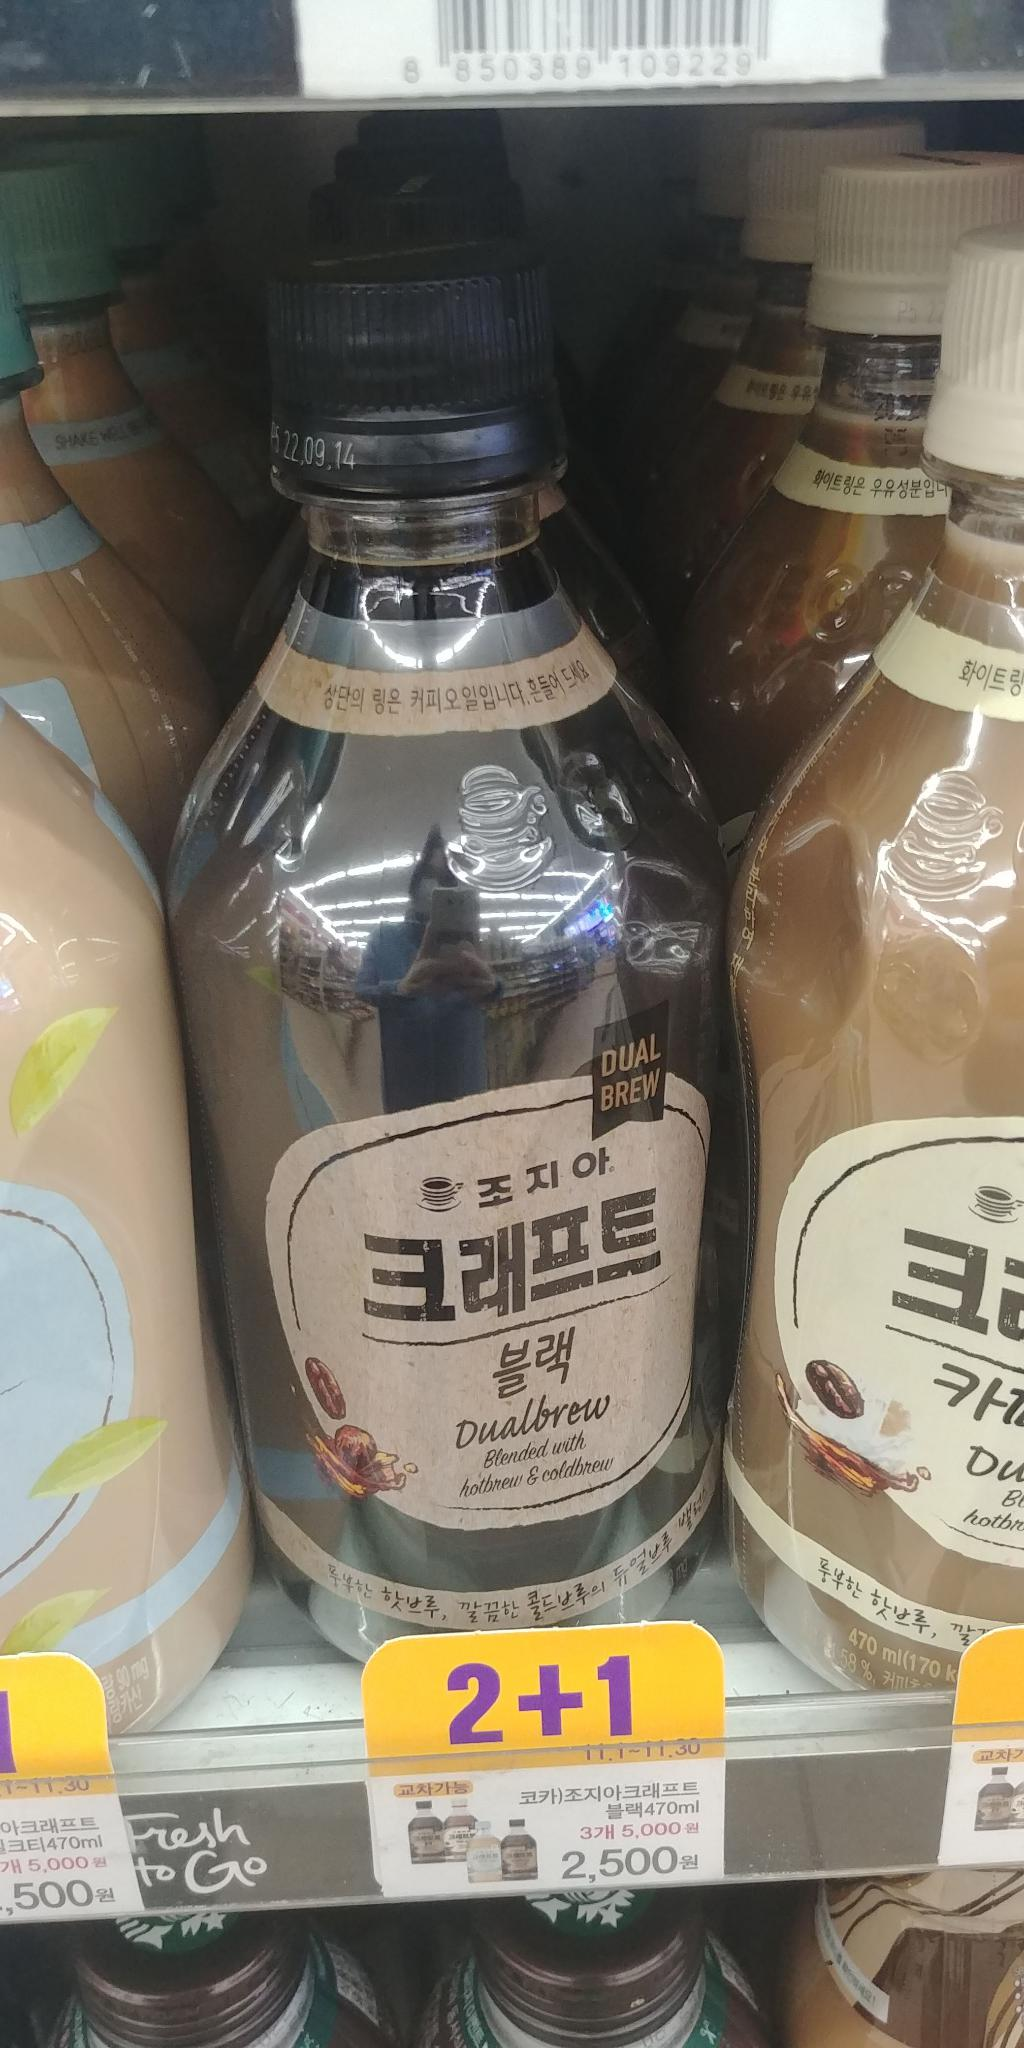georgiacraft_black: (158, 231, 780, 1681)
